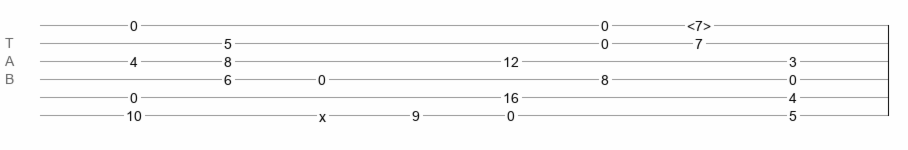0: (130, 18, 138, 28), (130, 90, 138, 100), (318, 72, 326, 82), (507, 108, 515, 118), (601, 36, 609, 46), (601, 18, 609, 28), (789, 72, 797, 82)
10: (126, 108, 142, 118)
12: (503, 54, 519, 64)
16: (503, 90, 519, 100)
3: (789, 54, 797, 64)
4: (130, 54, 138, 64), (789, 90, 797, 100)
5: (224, 36, 232, 46), (789, 108, 797, 118)
6: (224, 72, 232, 82)
7: (695, 36, 703, 46)
8: (224, 54, 232, 64), (601, 72, 609, 82)
9: (412, 108, 420, 118)
harmonic: (687, 18, 711, 28)
x: (319, 109, 326, 117)
